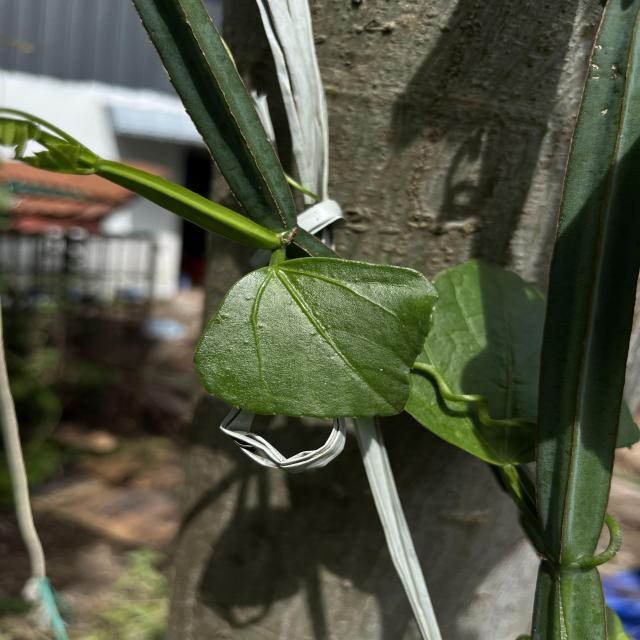Cissus quadrangularis: (188, 254, 444, 424)
